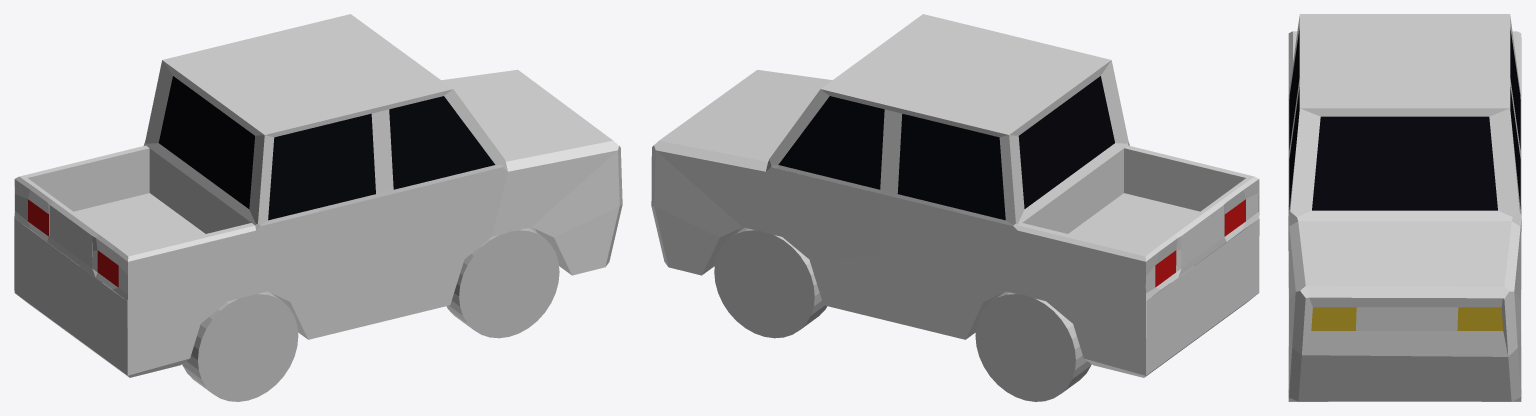
Rendered from truck.obj.
3 views of the same model, side by side, from view 1: azimuth 30°, elevation 25°; view 2: azimuth 150°, elevation 25°; view 3: azimuth 270°, elevation 25° (orthographic). The views are drawn at different scales.
Visible parts, largest first — view 1: Cube, Cylinder.003, Cylinder; view 2: Cube, Cylinder.002, Cylinder.001; view 3: Cube.
Part boxes in pixels (x1,y1,x2,y2): Cube: (14, 14, 622, 377); Cylinder.003: (182, 291, 298, 401); Cylinder: (446, 227, 559, 338); Cube: (651, 14, 1259, 377); Cylinder.002: (975, 291, 1091, 401); Cylinder.001: (714, 227, 827, 338); Cube: (1288, 14, 1521, 401).
Size of the model in its own units: 8.39 by 4.09 by 3.29.
